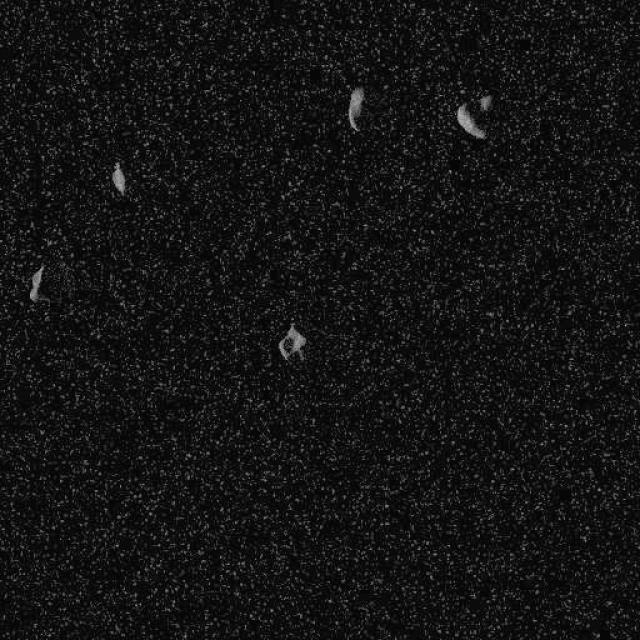D2: (455, 92, 493, 140), (276, 322, 306, 362), (346, 85, 365, 131), (27, 264, 45, 302), (110, 160, 126, 195)
